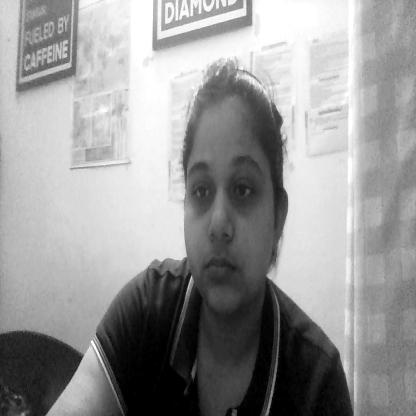Normal: (181, 108, 282, 320)
